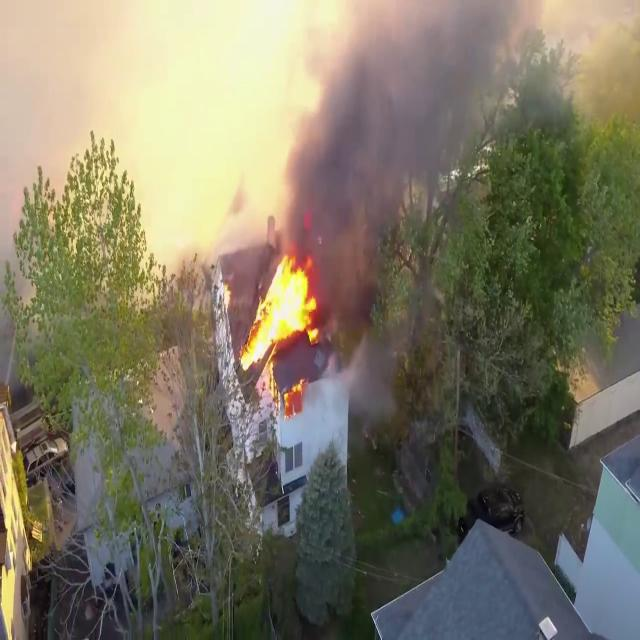Fire: (240, 249, 324, 386)
Smoke: (277, 0, 504, 274)
